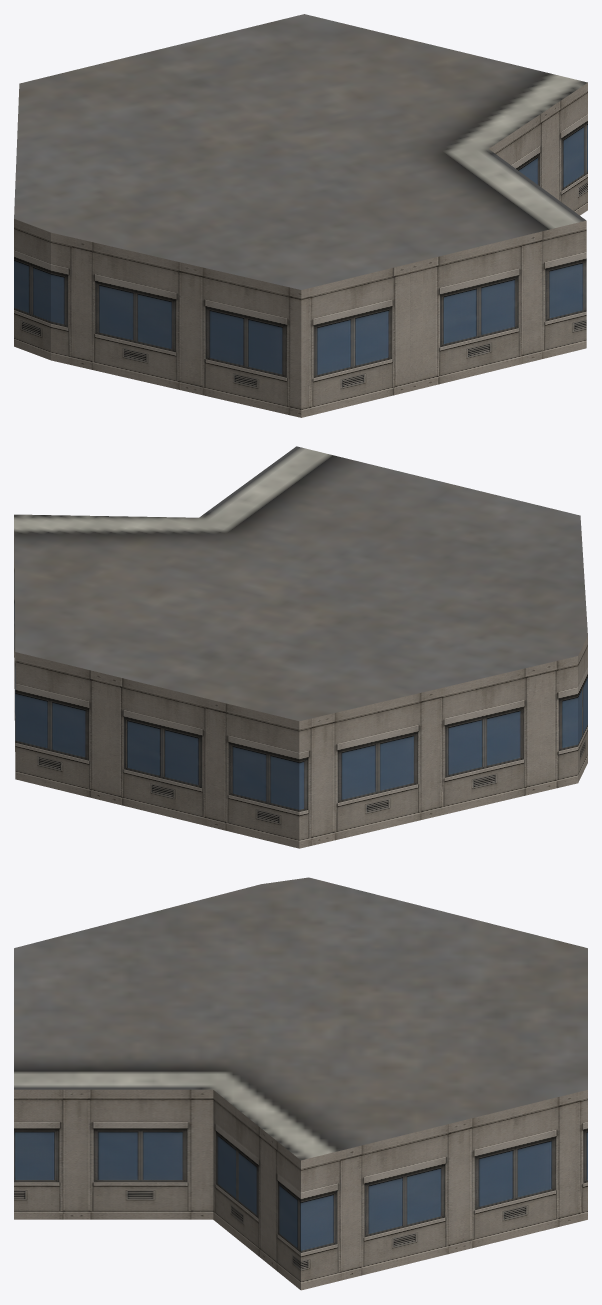
Rendered from building_light_68.glb.
3 views of the same model, one above another, from view 1: azimuth 30°, elevation 25°; view 2: azimuth 150°, elevation 25°; view 3: azimuth 270°, elevation 25° (orthographic). The views are drawn at different scales.
Visible parts, largest first — view 1: buildings/saxarba/building_light/building_light_68; view 2: buildings/saxarba/building_light/building_light_68; view 3: buildings/saxarba/building_light/building_light_68.
Part boxes in pixels (left/top/right/bottom): buildings/saxarba/building_light/building_light_68: left=14, top=14, right=587, bottom=417; buildings/saxarba/building_light/building_light_68: left=14, top=446, right=587, bottom=848; buildings/saxarba/building_light/building_light_68: left=14, top=877, right=587, bottom=1290.
Size of the model in its own units: 84 by 18 by 72.
